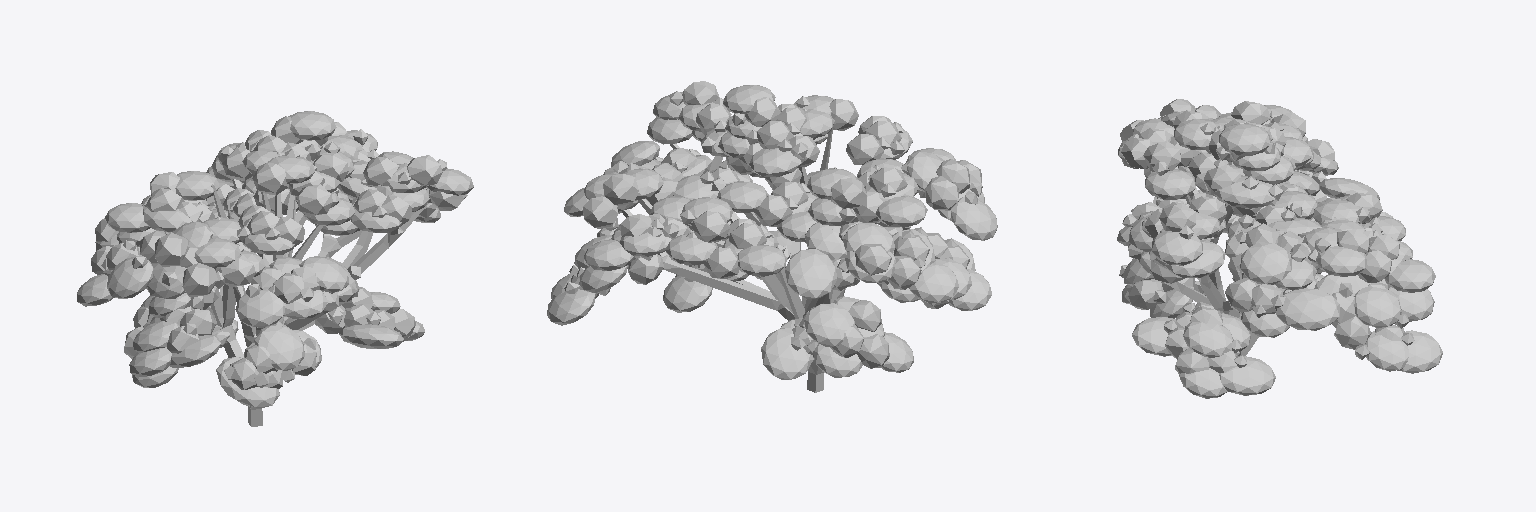
The model's file is uploads_files_3849801_Japanese+Maple-Tree_Pack+JSGraphics_CGTrader.obj.
3 views of the same model, side by side, from view 1: azimuth 30°, elevation 25°; view 2: azimuth 150°, elevation 25°; view 3: azimuth 270°, elevation 25° (orthographic).
Parts seen in each view (by area): view 1: Plane.182_Plane.002, Icosphere.3267_Icosphere.586, Icosphere.3223_Icosphere.542, Icosphere.3072_Icosphere.391, Icosphere.3194_Icosphere.513, Icosphere.3268_Icosphere.587, Icosphere.2982_Icosphere.301, Icosphere.3212_Icosphere.531, Icosphere.2999_Icosphere.318, Icosphere.3012_Icosphere.331, Icosphere.3058_Icosphere.377, Icosphere.3177_Icosphere.496 (+28 smaller); view 2: Plane.182_Plane.002, Icosphere.3159_Icosphere.478, Icosphere.3232_Icosphere.551, Icosphere.3229_Icosphere.548, Icosphere.3072_Icosphere.391, Icosphere.3170_Icosphere.489, Icosphere.3196_Icosphere.515, Icosphere.3032_Icosphere.351, Icosphere.3012_Icosphere.331, Icosphere.3141_Icosphere.460, Icosphere.3100_Icosphere.419, Icosphere.3262_Icosphere.581 (+28 smaller); view 3: Icosphere.3121_Icosphere.440, Plane.182_Plane.002, Icosphere.3118_Icosphere.437, Icosphere.3138_Icosphere.457, Icosphere.3196_Icosphere.515, Icosphere.3193_Icosphere.512, Icosphere.3042_Icosphere.361, Icosphere.2982_Icosphere.301, Icosphere.3262_Icosphere.581, Icosphere.3142_Icosphere.461, Icosphere.3082_Icosphere.401, Icosphere.3250_Icosphere.569 (+28 smaller).
Boxes of the visible parts, x1=… form: Plane.182_Plane.002: x1=168, y1=179, x2=428, y2=426; Icosphere.3267_Icosphere.586: x1=254, y1=326, x2=304, y2=370; Icosphere.3223_Icosphere.542: x1=235, y1=289, x2=285, y2=327; Icosphere.3072_Icosphere.391: x1=107, y1=257, x2=153, y2=298; Icosphere.3194_Icosphere.513: x1=339, y1=324, x2=404, y2=348; Icosphere.3268_Icosphere.587: x1=216, y1=357, x2=279, y2=407; Icosphere.2982_Icosphere.301: x1=288, y1=111, x2=336, y2=140; Icosphere.3212_Icosphere.531: x1=299, y1=256, x2=348, y2=292; Icosphere.2999_Icosphere.318: x1=175, y1=171, x2=219, y2=200; Icosphere.3012_Icosphere.331: x1=105, y1=203, x2=150, y2=232; Icosphere.3058_Icosphere.377: x1=194, y1=238, x2=240, y2=267; Icosphere.3177_Icosphere.496: x1=170, y1=335, x2=220, y2=367; Plane.182_Plane.002: x1=622, y1=125, x2=879, y2=392; Icosphere.3159_Icosphere.478: x1=785, y1=249, x2=836, y2=298; Icosphere.3232_Icosphere.551: x1=761, y1=328, x2=813, y2=379; Icosphere.3229_Icosphere.548: x1=804, y1=303, x2=854, y2=346; Icosphere.3072_Icosphere.391: x1=950, y1=197, x2=997, y2=240; Icosphere.3170_Icosphere.489: x1=909, y1=261, x2=958, y2=302; Icosphere.3196_Icosphere.515: x1=663, y1=276, x2=712, y2=312; Icosphere.3032_Icosphere.351: x1=737, y1=245, x2=787, y2=276; Icosphere.3012_Icosphere.331: x1=876, y1=196, x2=927, y2=227; Icosphere.3141_Icosphere.460: x1=547, y1=289, x2=594, y2=325; Icosphere.3100_Icosphere.419: x1=717, y1=181, x2=768, y2=212; Icosphere.3262_Icosphere.581: x1=584, y1=239, x2=634, y2=270; Icosphere.3121_Icosphere.440: x1=1276, y1=288, x2=1339, y2=330; Plane.182_Plane.002: x1=1164, y1=162, x2=1371, y2=355; Icosphere.3118_Icosphere.437: x1=1240, y1=242, x2=1291, y2=284; Icosphere.3138_Icosphere.457: x1=1354, y1=287, x2=1401, y2=327; Icosphere.3196_Icosphere.515: x1=1219, y1=356, x2=1275, y2=395; Icosphere.3193_Icosphere.512: x1=1183, y1=322, x2=1233, y2=357; Icosphere.3042_Icosphere.361: x1=1152, y1=231, x2=1202, y2=265; Icosphere.2982_Icosphere.301: x1=1219, y1=124, x2=1270, y2=155; Icosphere.3262_Icosphere.581: x1=1384, y1=259, x2=1435, y2=292; Icosphere.3142_Icosphere.461: x1=1365, y1=331, x2=1408, y2=371; Icosphere.3082_Icosphere.401: x1=1145, y1=169, x2=1195, y2=199; Icosphere.3250_Icosphere.569: x1=1316, y1=246, x2=1366, y2=276.
Bounding box in the file's own units: 15.71 × 11.79 × 12.01.